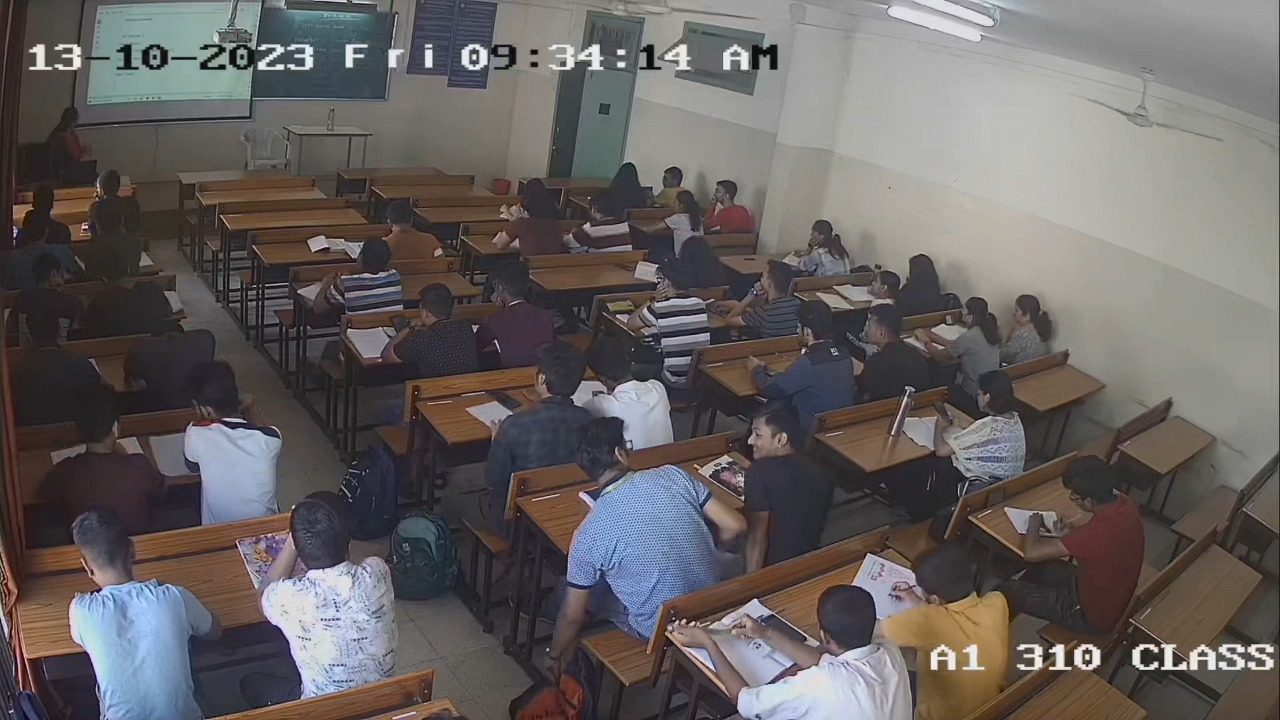cell-phones: (759, 610, 806, 644), (929, 398, 956, 428), (489, 387, 520, 411), (390, 309, 411, 337), (607, 297, 639, 315), (941, 313, 958, 327)
person: (732, 580, 905, 720), (481, 345, 593, 464), (926, 371, 1028, 481), (374, 278, 479, 380), (621, 260, 714, 358), (914, 295, 1001, 367)
